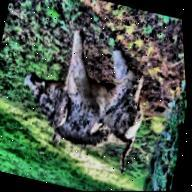boar: (0, 11, 166, 171)
